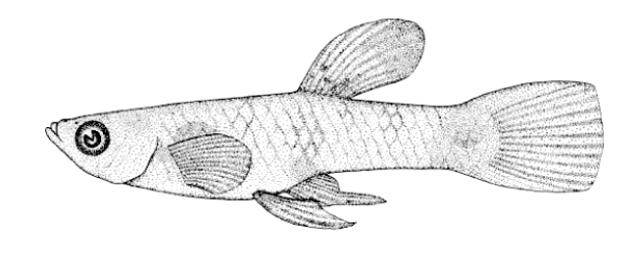Mulut: (26, 102, 76, 170)
Sirip Anal: (286, 163, 398, 215)
Sirip Dada: (162, 127, 256, 207)
Sirip Ekor: (442, 74, 612, 204)
Sirip Perut: (244, 184, 360, 240)
Sirip Punggung: (289, 11, 437, 113)
